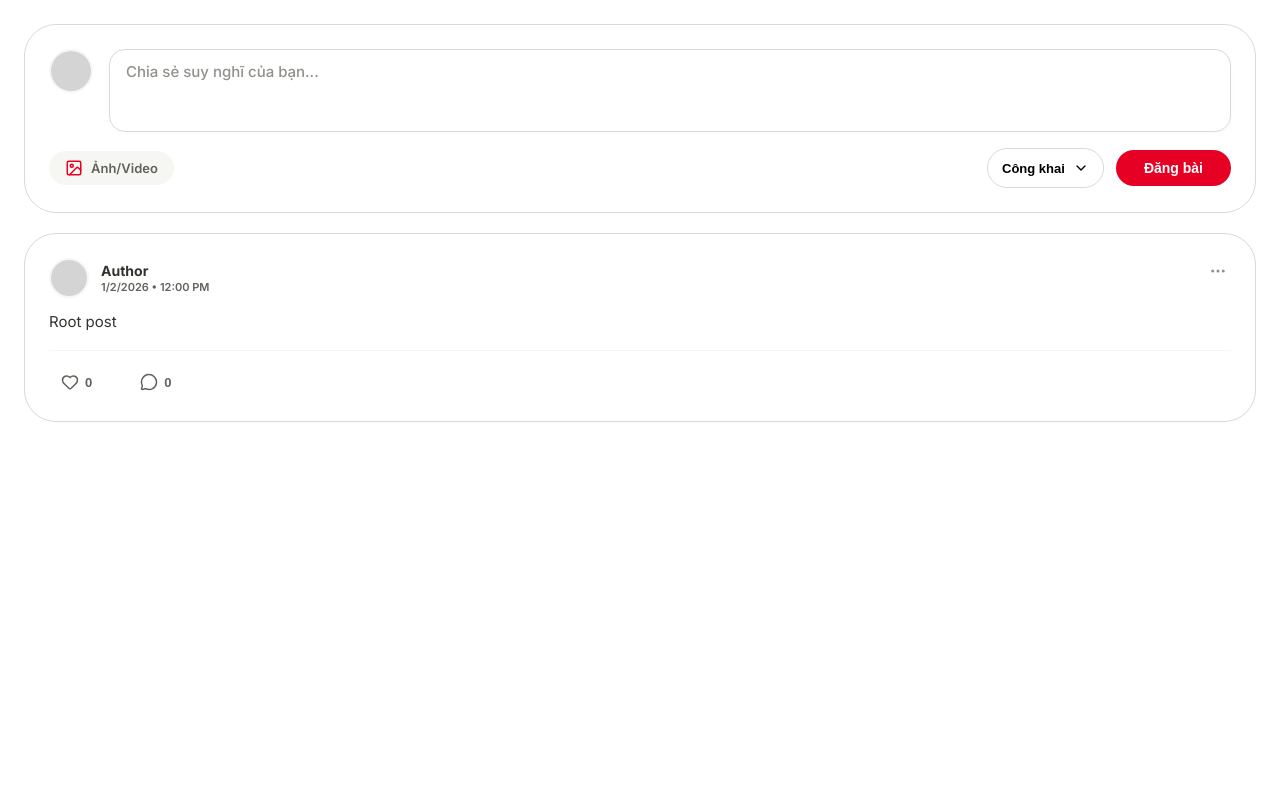
Test case: Feed — comments modal › openComments_fetches_GET_social_posts_id_comments
The width and height of the screenshot is (1280, 800).
Expected: the text box with id "feed-post-input" is shown, [109, 49, 1231, 132]
Click the 2nd button "0": [156, 382] box [128, 367, 183, 397]
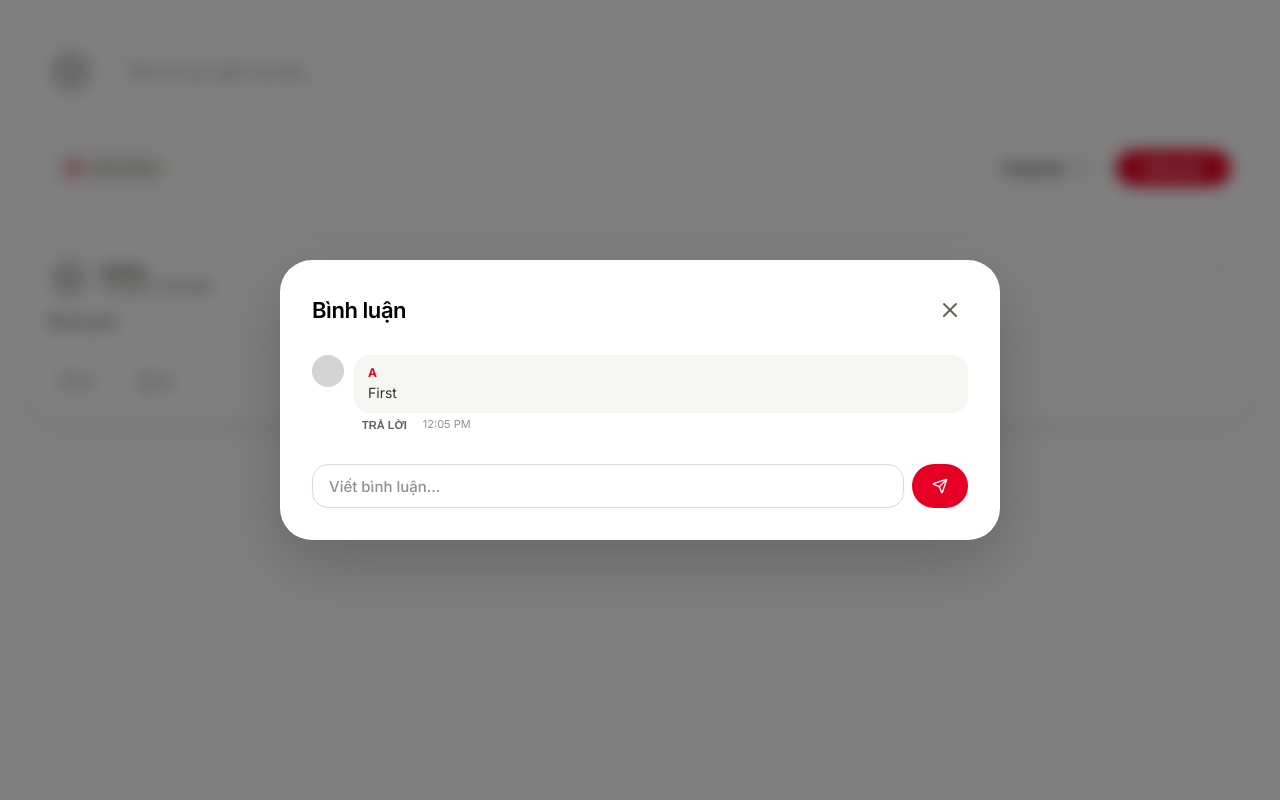
Now the text "First" is shown, box [368, 384, 397, 401]
